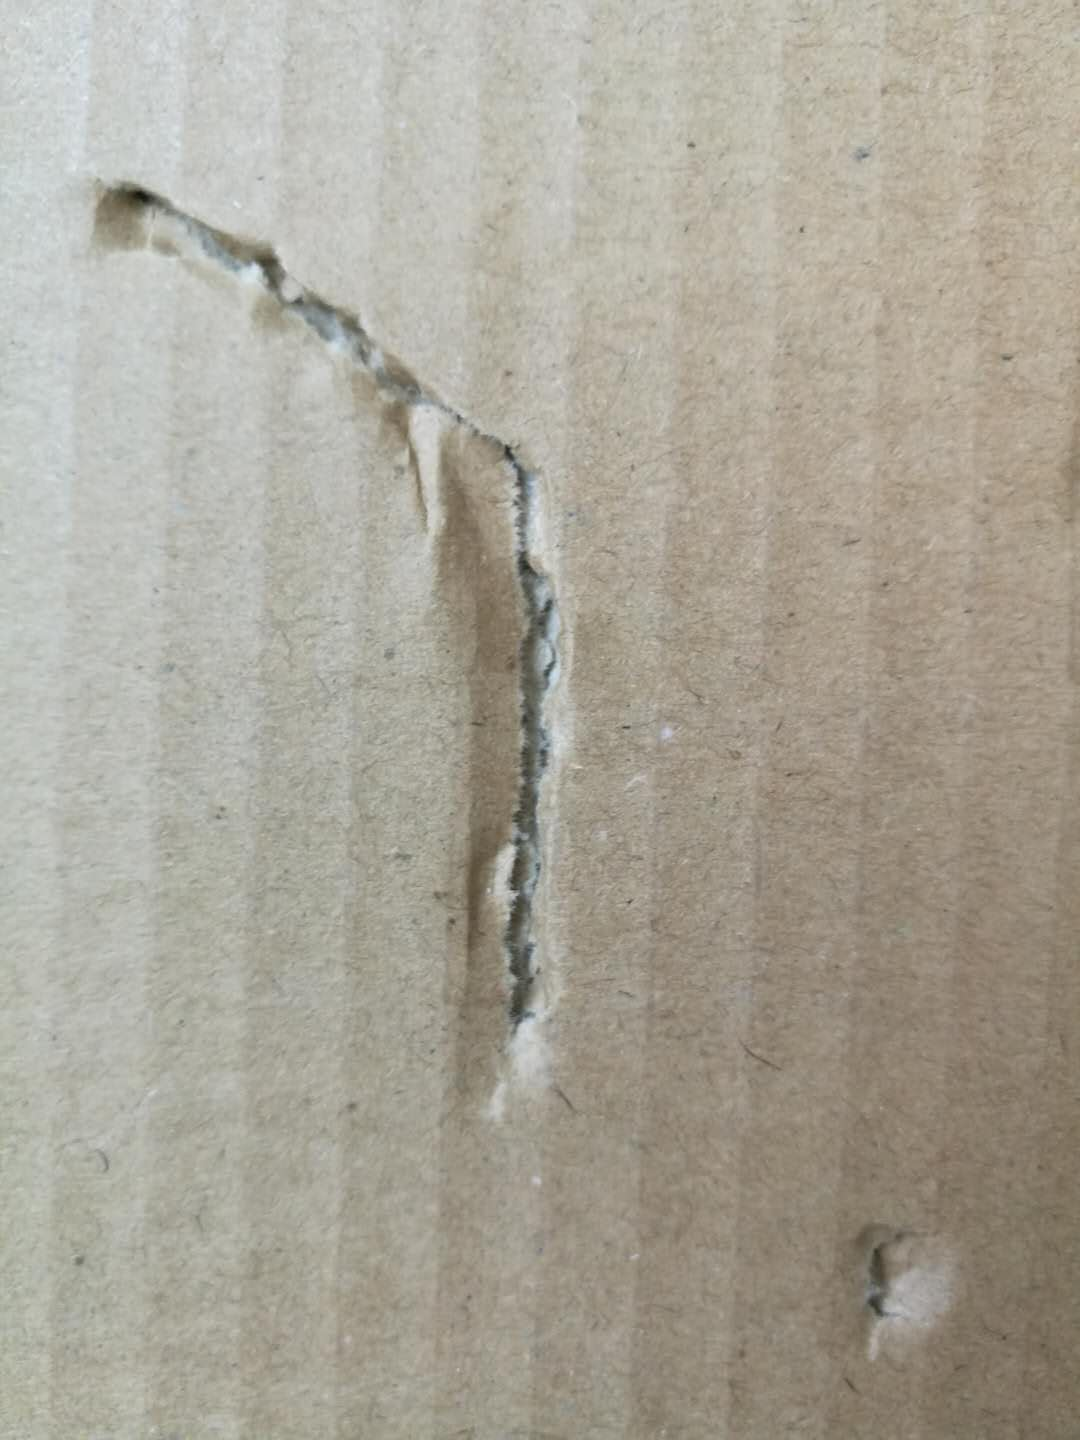defect: (37, 139, 639, 1172), (803, 1178, 980, 1399)
